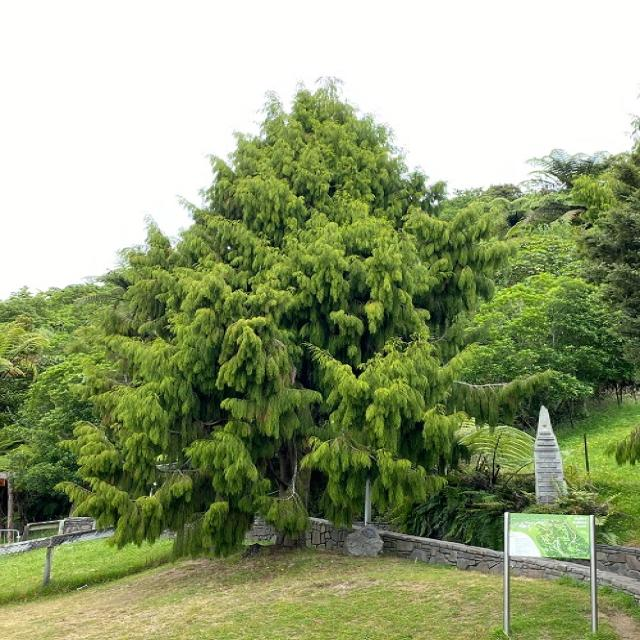Rimu: (111, 77, 445, 510)
